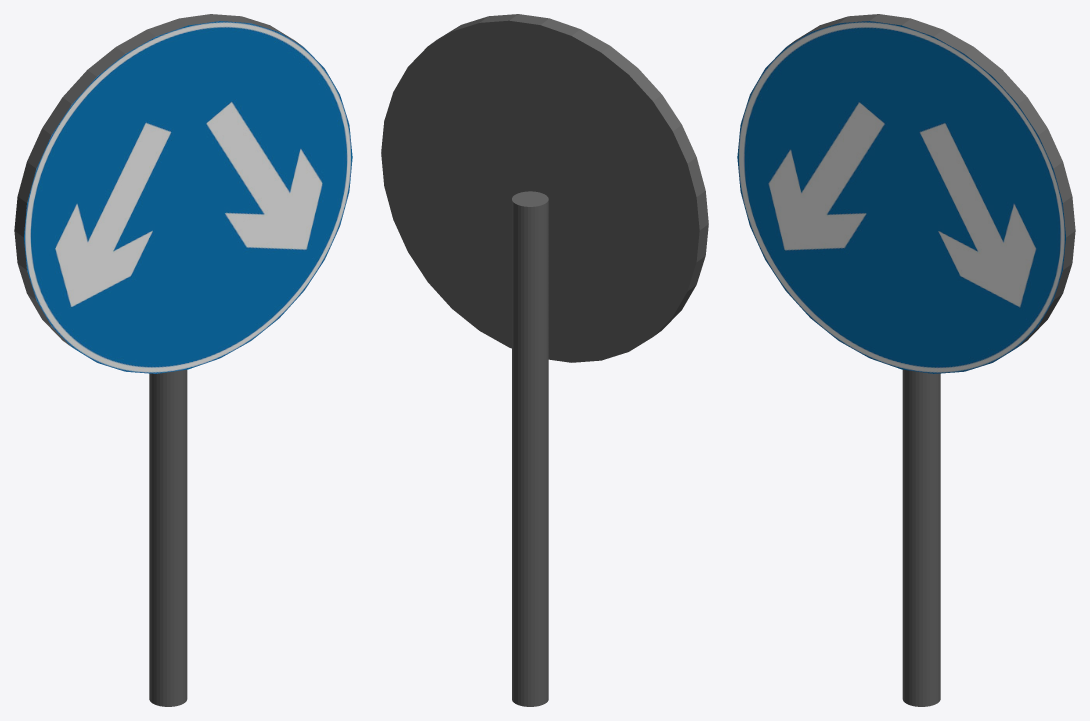
Rendered from SignGivingOrderVehiclePassEitherSide.obj.
3 views of the same model, side by side, from view 1: azimuth 30°, elevation 25°; view 2: azimuth 150°, elevation 25°; view 3: azimuth 330°, elevation 25° (orthographic). The views are drawn at different scales.
Parts seen in each view (by area): view 1: Cylinder, Cylinder.001; view 2: Cylinder, Cylinder.001; view 3: Cylinder, Cylinder.001.
Boxes of the visible parts, <box> form: Cylinder: <box>14,14,352,373</box>; Cylinder.001: <box>149,369,187,706</box>; Cylinder: <box>381,14,708,362</box>; Cylinder.001: <box>512,191,548,706</box>; Cylinder: <box>737,14,1075,373</box>; Cylinder.001: <box>902,369,940,706</box>.
Bounding box in the file's own units: 1 × 2 × 0.155.
Materials: 3 (1 with a texture image).
